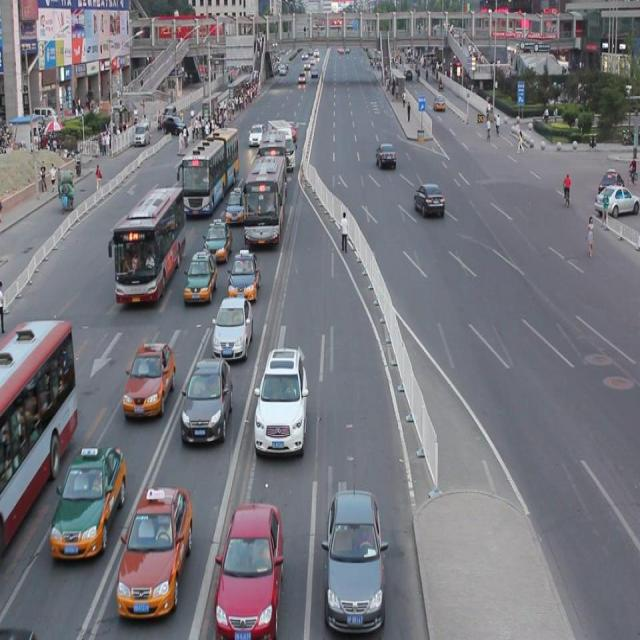bus: (268, 121, 295, 171)
car: (118, 482, 192, 611), (214, 501, 284, 633), (322, 488, 385, 630), (51, 445, 125, 555), (254, 349, 307, 452), (181, 360, 233, 440), (124, 340, 175, 414), (211, 294, 253, 358), (182, 250, 215, 301), (226, 249, 257, 303), (593, 182, 640, 215), (202, 218, 230, 262), (412, 181, 444, 216), (227, 186, 247, 224), (374, 142, 394, 165), (247, 123, 263, 146), (287, 123, 296, 139)
van: (1, 318, 77, 554), (107, 191, 185, 306), (176, 130, 238, 214), (243, 153, 284, 243), (256, 133, 290, 190)
